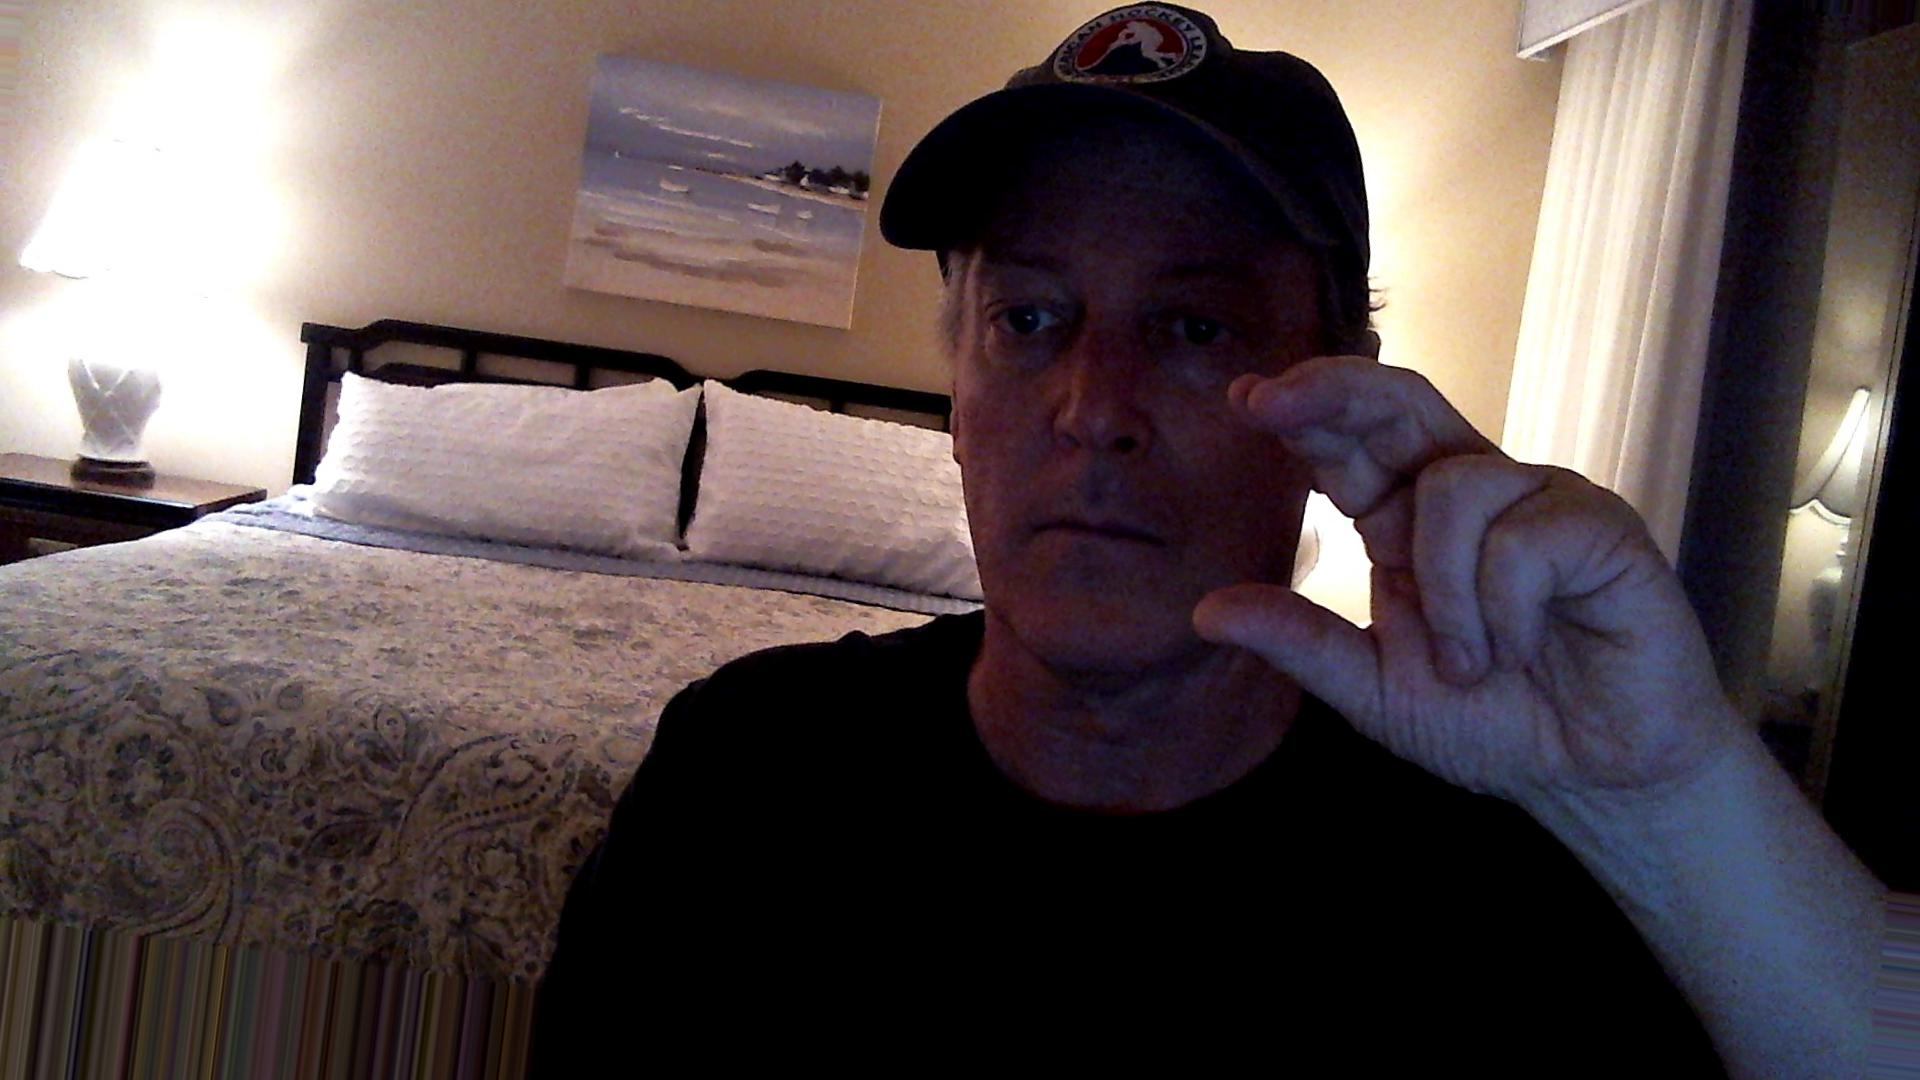No: (1171, 324, 1767, 829)
